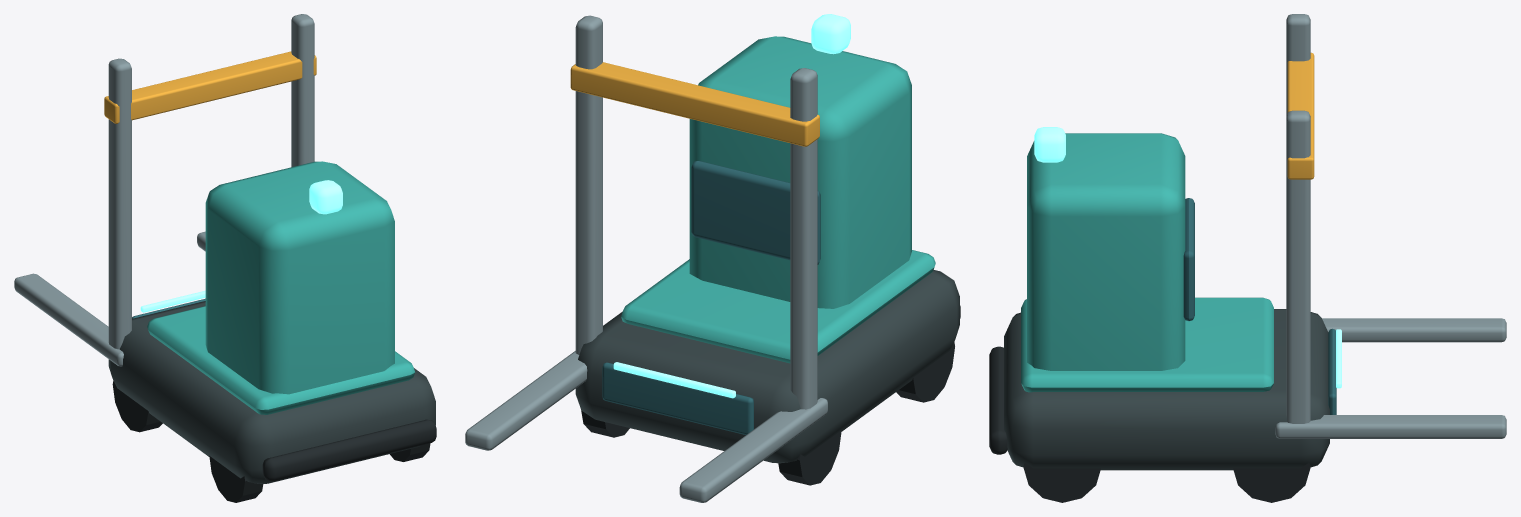
Rendered from forklift.glb.
3 renders of one model, left to right at view 1: azimuth 30°, elevation 25°; view 2: azimuth 150°, elevation 25°; view 3: azimuth 270°, elevation 25°, orthographic. The views are drawn at different scales.
Parts seen in each view (by area): view 1: operatorless lift housing, low chassis, top cover, mast rail, lift crossbar, rear bumper, mast rail.001, fork, drive wheel, drive wheel.001, lift beacon, front LED bar; view 2: operatorless lift housing, low chassis, top cover, mast rail, lift crossbar, mast rail.001, sensor fascia, front LIDAR glass, fork, fork.001, drive wheel.001, drive wheel (+3 smaller); view 3: operatorless lift housing, low chassis, top cover, mast rail.001, fork.001, fork, lift crossbar, drive wheel.003, drive wheel.002, rear bumper, sensor fascia, mast rail (+2 smaller).
Part boxes in pixels (x1,y1,x2,y2): operatorless lift housing: (205,161,394,394); low chassis: (108,301,435,483); top cover: (147,306,415,414); mast rail: (108,58,131,349); lift crossbar: (104,51,316,123); rear bumper: (262,419,436,481); mast rail.001: (291,14,314,167); fork: (14,273,123,366); drive wheel: (209,456,263,502); drive wheel.001: (112,380,162,432); lift beacon: (309,180,342,214); front LED bar: (140,290,205,312); operatorless lift housing: (689,36,911,308); low chassis: (575,270,959,463); top cover: (621,250,935,363); mast rail: (790,68,817,409); lift crossbar: (570,62,819,146); mast rail.001: (575,15,602,354); sensor fascia: (691,161,820,264); front LIDAR glass: (602,362,753,434); fork: (679,398,827,502); fork.001: (465,351,587,450); drive wheel.001: (778,430,841,485); drive wheel: (896,342,954,402); operatorless lift housing: (1027,133,1185,370); low chassis: (1004,309,1329,470); top cover: (1021,297,1273,392); mast rail.001: (1286,110,1310,423); fork.001: (1275,415,1506,438); fork: (1322,318,1506,342); lift crossbar: (1287,52,1314,179); drive wheel.003: (1233,463,1310,502); drive wheel.002: (1023,463,1100,502); rear bumper: (989,346,1007,454); sensor fascia: (1183,198,1194,320); mast rail: (1286,14,1310,115).
Size of the model in its own units: 1.06 by 1.76 by 2.13.
